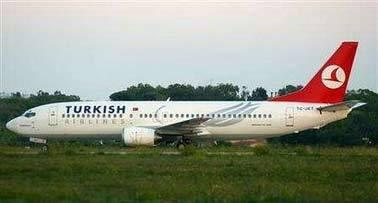airplane: (4, 39, 367, 150)
